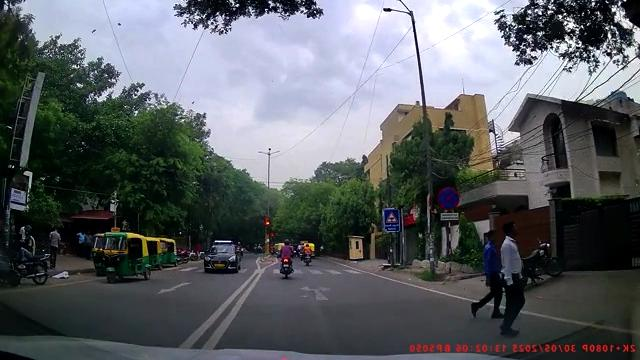motorcycle_with_helmet: (279, 238, 295, 278)
